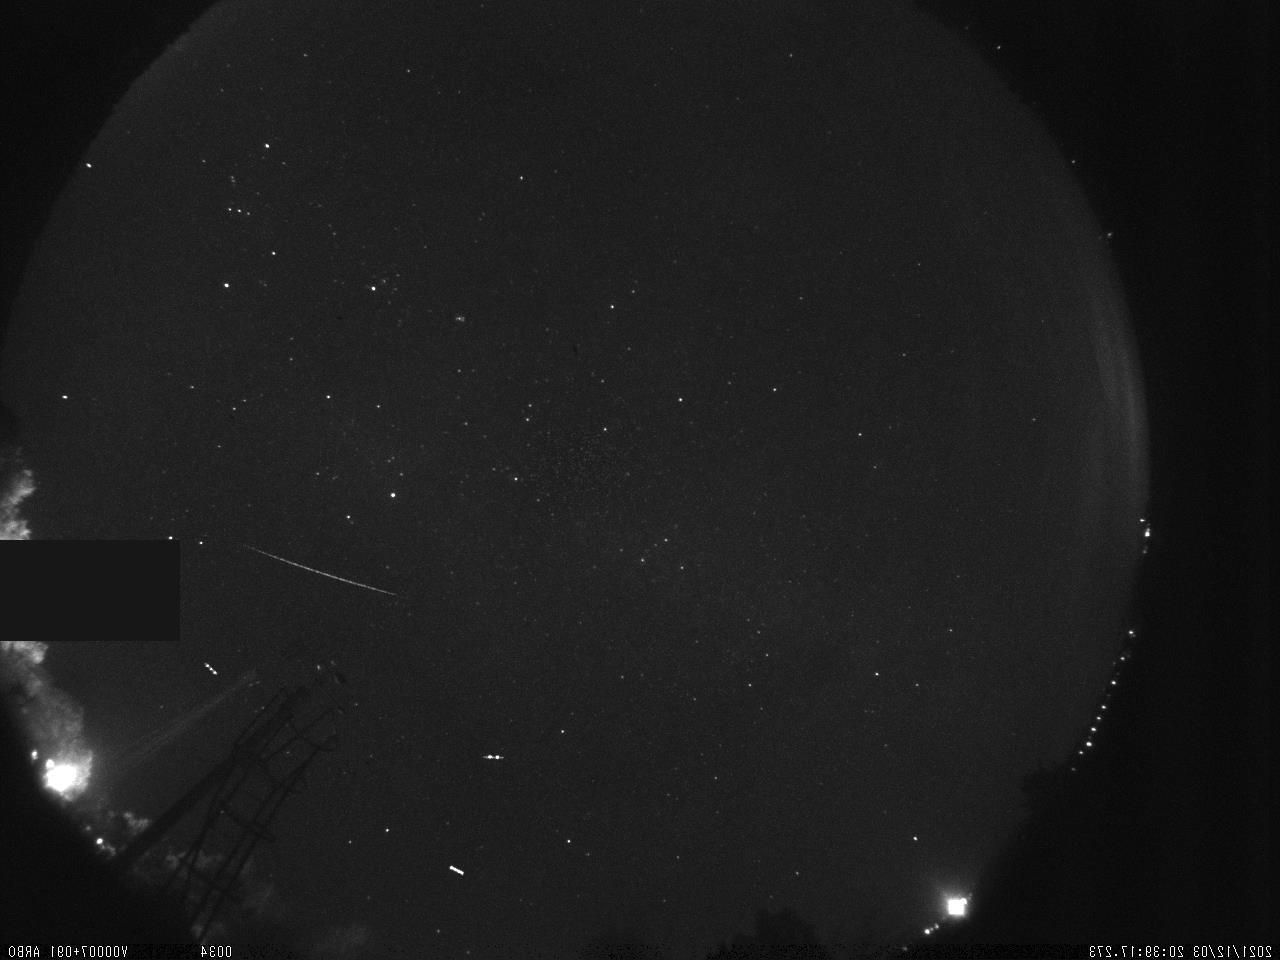meteor: (210, 543, 447, 608)
